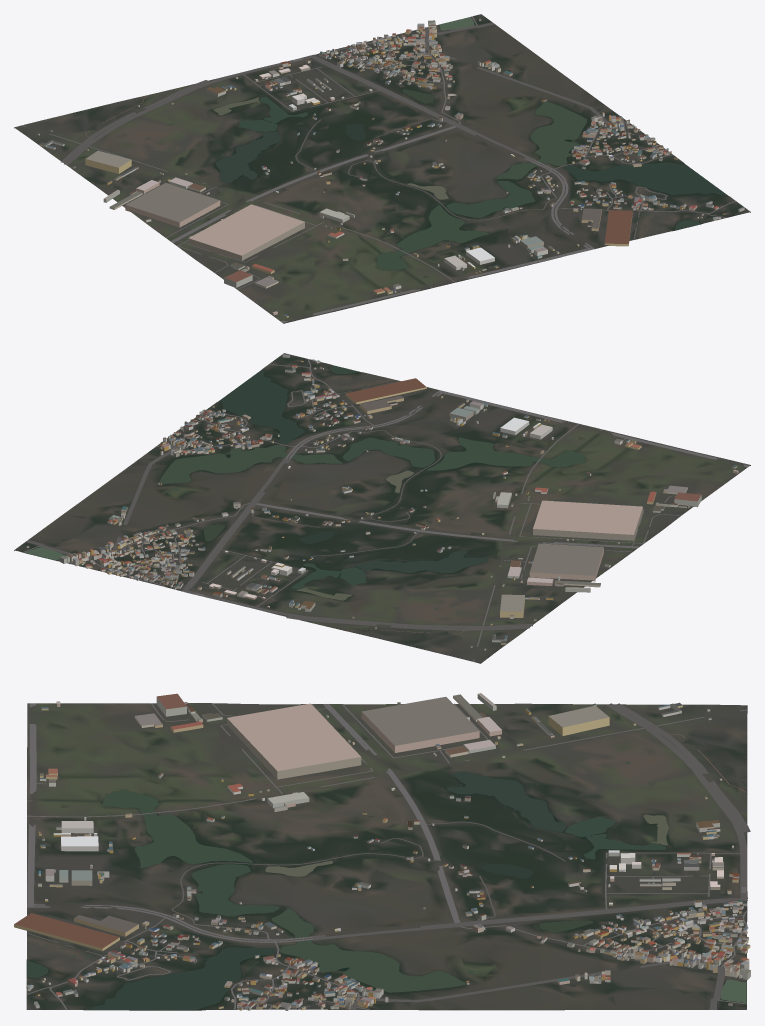
3 renders of one model, top to bottom at view 1: azimuth 30°, elevation 25°; view 2: azimuth 150°, elevation 25°; view 3: azimuth 270°, elevation 25°, orthographic. The views are drawn at different scales.
Visible parts, largest first — view 1: ground, buildings, water, roads; view 2: ground, buildings, water, roads; view 3: ground, buildings, water, roads.
Boxes of the visible parts, x1,y1,x2,y2 form: ground: (14, 14, 750, 323); buildings: (37, 18, 744, 317); water: (146, 17, 725, 270); roads: (21, 16, 735, 322); ground: (14, 353, 750, 663); buildings: (25, 354, 738, 650); water: (25, 365, 585, 609); roads: (23, 359, 749, 661); ground: (26, 703, 747, 1010); buildings: (14, 693, 750, 1010); water: (27, 762, 746, 1009); roads: (26, 703, 750, 1010).
Size of the model in its own units: 1441 by 25.86 by 1434.
